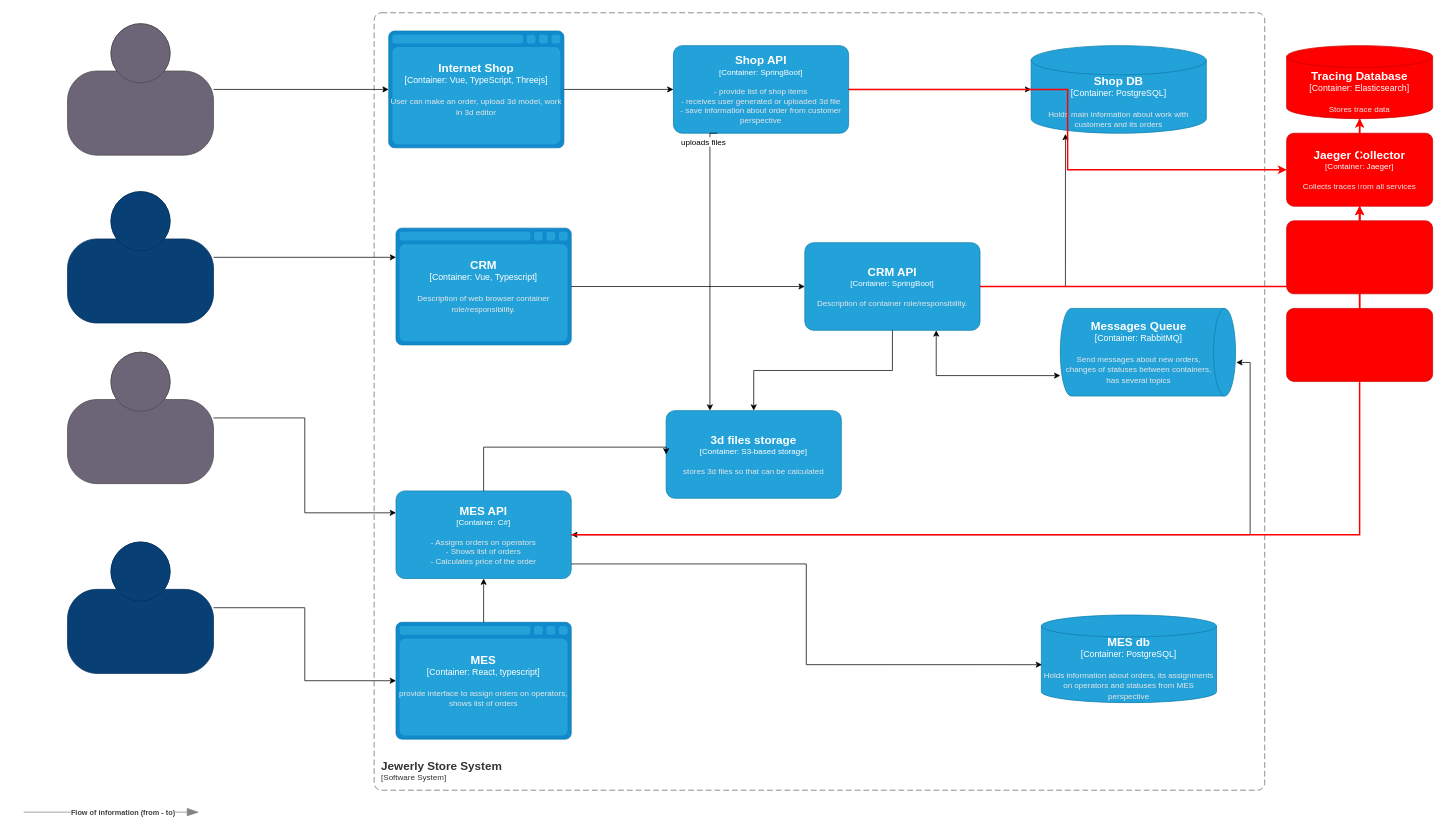
The diagram is 1445 pixels wide and 837 high, and some of its shapes have lost their labels. Each missing label, with the centre of its shape:
"API user [Person] Description of external person." belongs at point (140, 417).
"Customer [Person] Description of external person." belongs at point (140, 89).
"Jaeger Query & UI [Container: Jaeger] Query and visualize traces" belongs at point (1359, 257).
"OpenTelemetry Agent [Container: OpenTelemetry] Automatic instrumentation" belongs at point (1359, 344).
"Operator [Person] Takes order in work, manufactures jewerly" belongs at point (140, 607).
"Seller [Person] Operates with order, confirms manufacturing for the user" belongs at point (140, 257).
